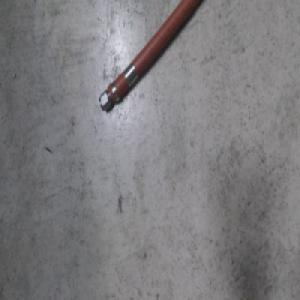Hose: (97, 0, 204, 113)
